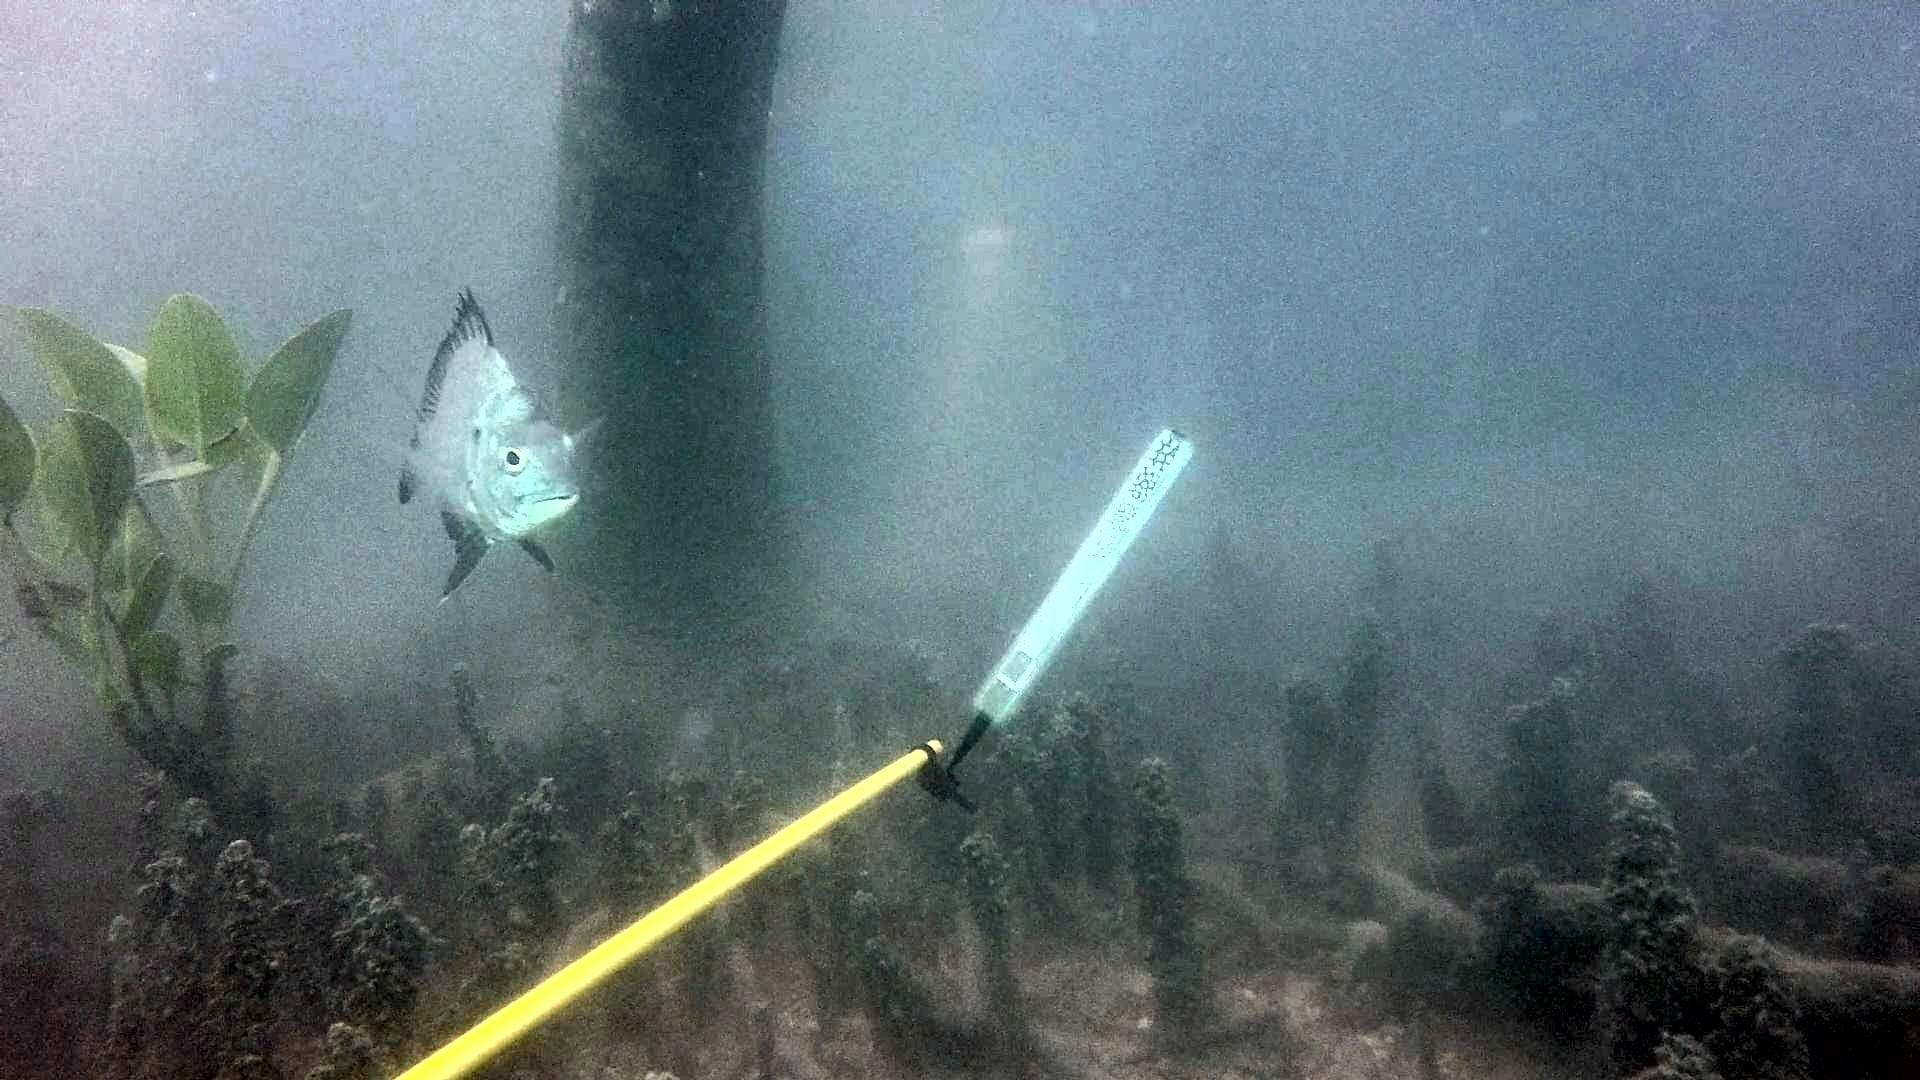acanthopagrus palmaris: (365, 270, 616, 621)
